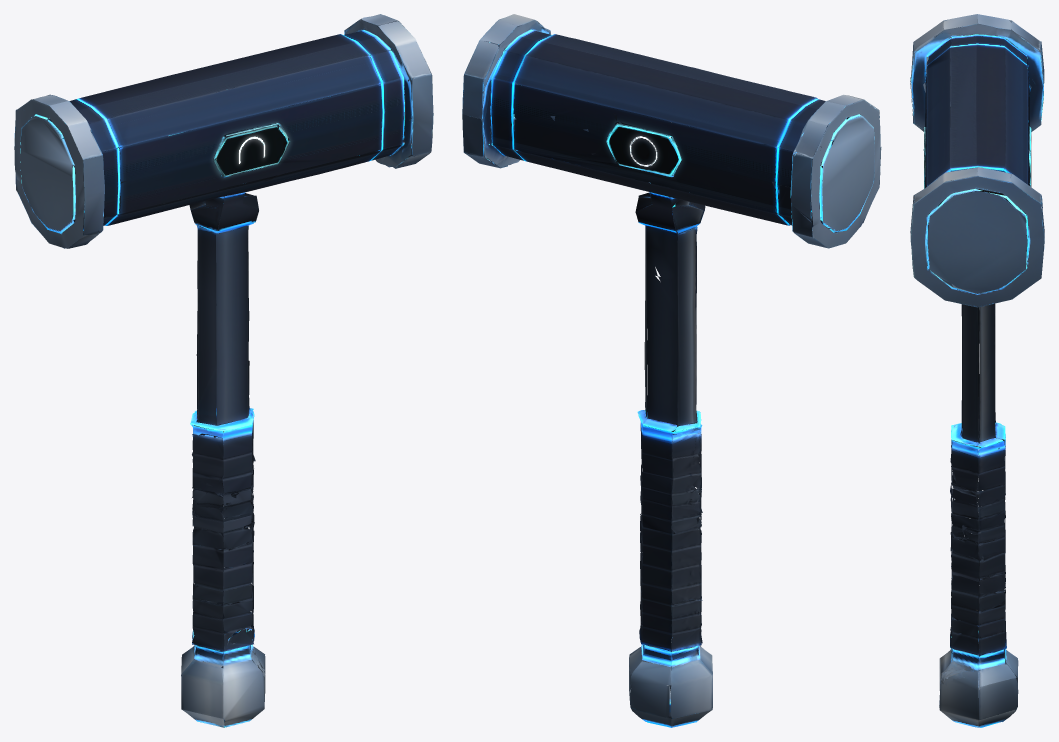
The model's file is NH_Arcade_Hammer_Hammer_1_1.fbx.
3 renders of one model, left to right at view 1: azimuth 30°, elevation 25°; view 2: azimuth 150°, elevation 25°; view 3: azimuth 270°, elevation 25°, orthographic. The views are drawn at different scales.
Parts seen in each view (by area): view 1: Arcade_Hammer_Hammer_1_1; view 2: Arcade_Hammer_Hammer_1_1; view 3: Arcade_Hammer_Hammer_1_1.
Boxes of the visible parts, x1,y1,x2,y2 form: Arcade_Hammer_Hammer_1_1: [14, 14, 433, 727]; Arcade_Hammer_Hammer_1_1: [462, 14, 881, 727]; Arcade_Hammer_Hammer_1_1: [910, 14, 1044, 727].
Size of the model in its own units: 0.3309 by 0.5802 by 0.1139.
